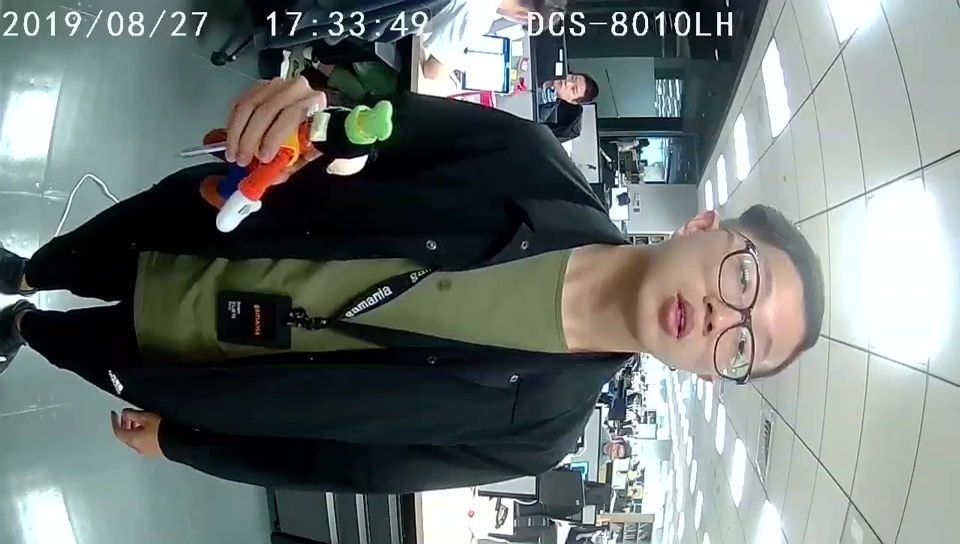goofy: (196, 99, 396, 236)
